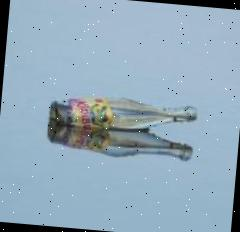glass: (48, 91, 198, 138)
